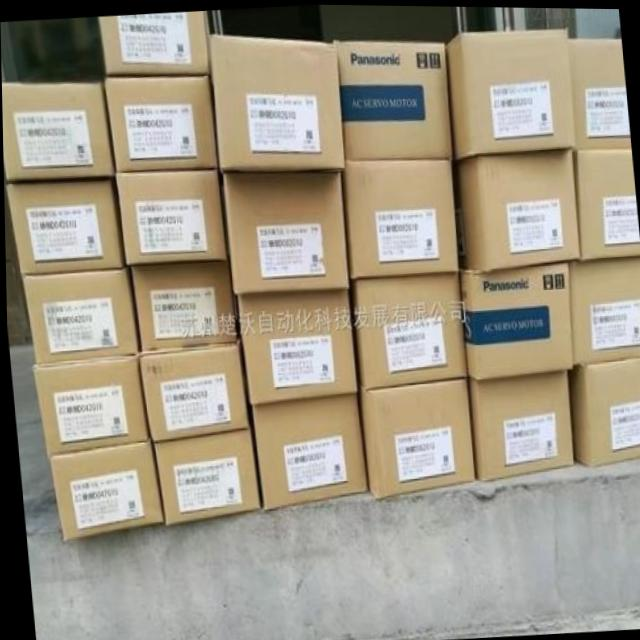box: (209, 31, 344, 168), (445, 28, 575, 157), (218, 167, 348, 291), (451, 148, 580, 268), (344, 155, 459, 278), (357, 377, 472, 499), (336, 40, 452, 160), (251, 391, 365, 513), (234, 289, 356, 400), (350, 271, 466, 386), (459, 259, 573, 376), (30, 353, 149, 458), (45, 440, 162, 543), (5, 174, 123, 276), (464, 368, 573, 478), (1, 78, 111, 179), (137, 338, 244, 441), (19, 268, 135, 363), (114, 166, 227, 263), (106, 72, 216, 169), (152, 424, 258, 522), (129, 261, 233, 348), (564, 352, 640, 465), (566, 255, 640, 363), (574, 146, 639, 257), (565, 35, 629, 146), (98, 12, 210, 74)
